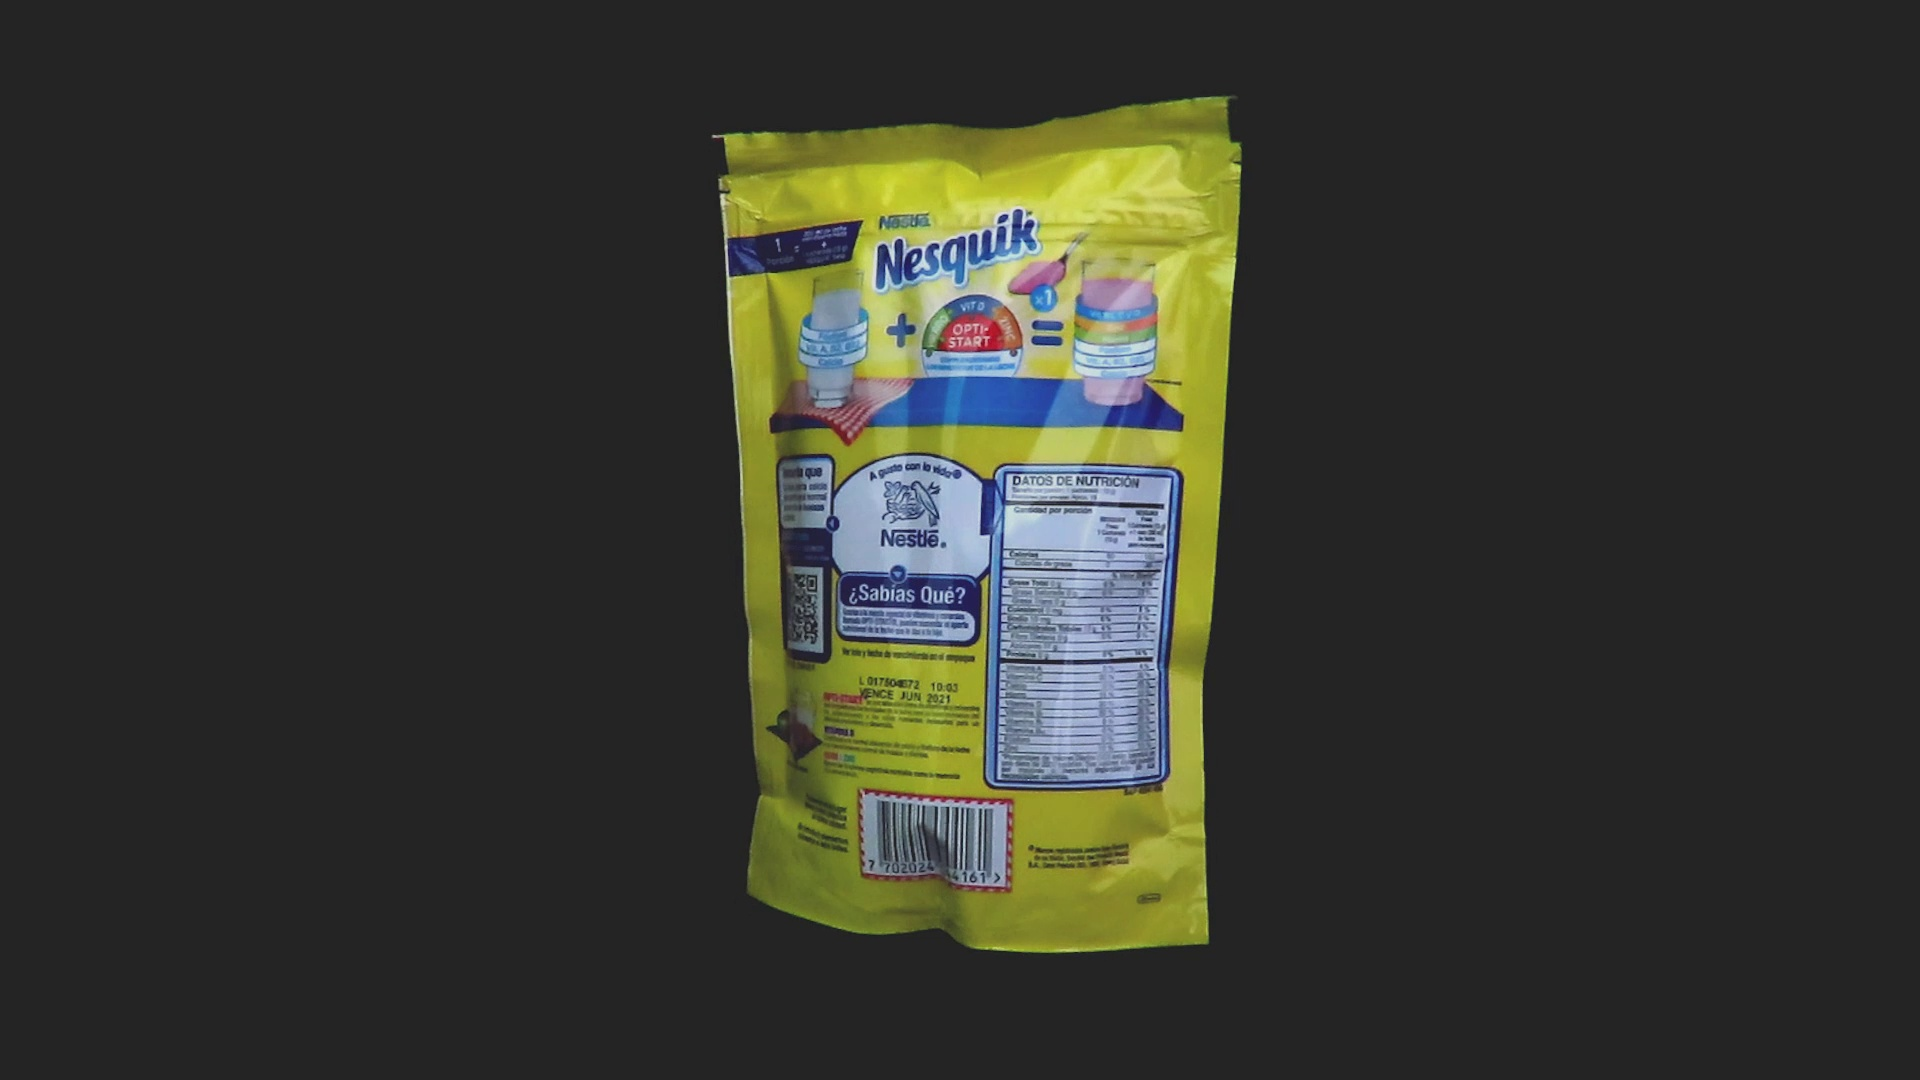COL0170305DYP20000: (707, 90, 1247, 959)
